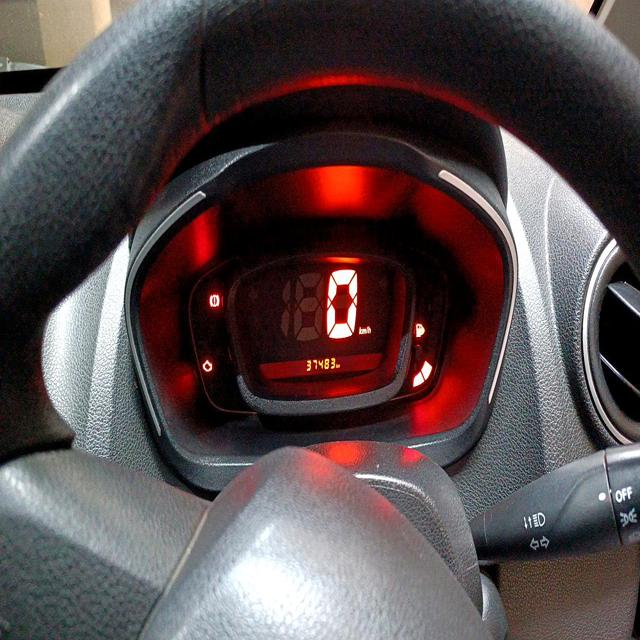odometer: (306, 357, 336, 375)
